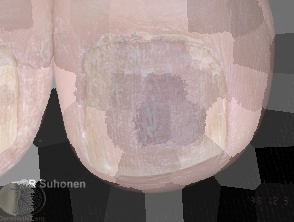Nail_psoriasis: (72, 22, 241, 185), (0, 37, 34, 164)
